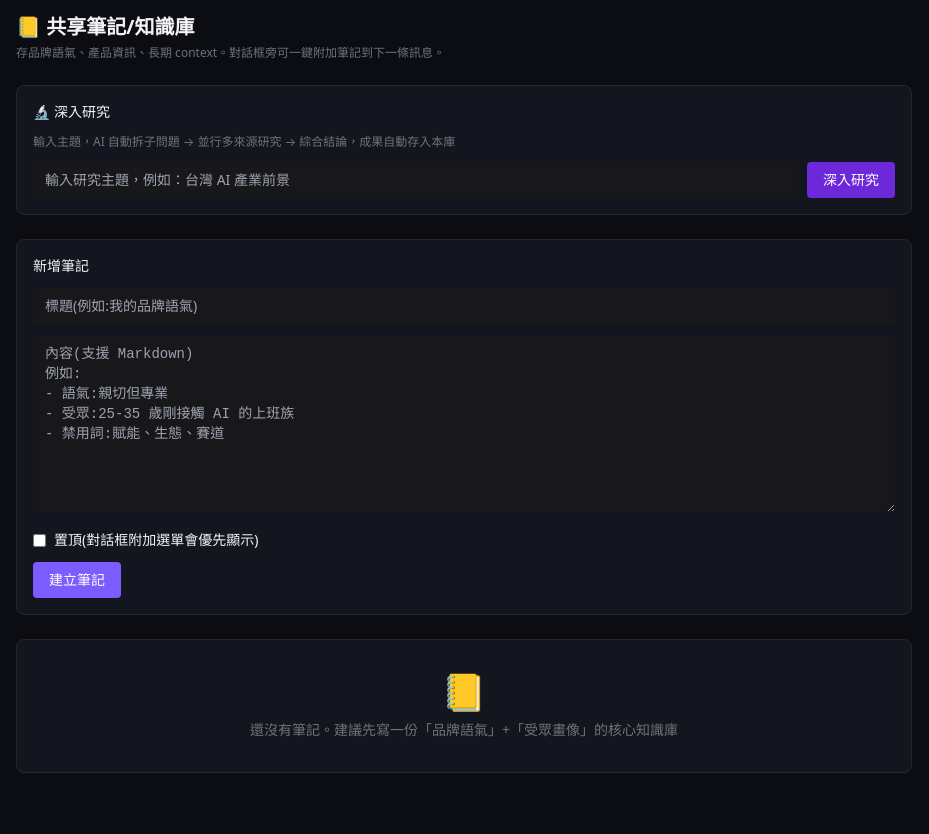
Test: NotesPanel — 🔬 深入研究區塊 › status=done 後刷新 notes 清單並顯示完成提示
Type "台灣 AI" into the field with placeholder "輸入研究主題，例如：台灣 AI 產業前景" at [416, 180], box [33, 162, 799, 198]
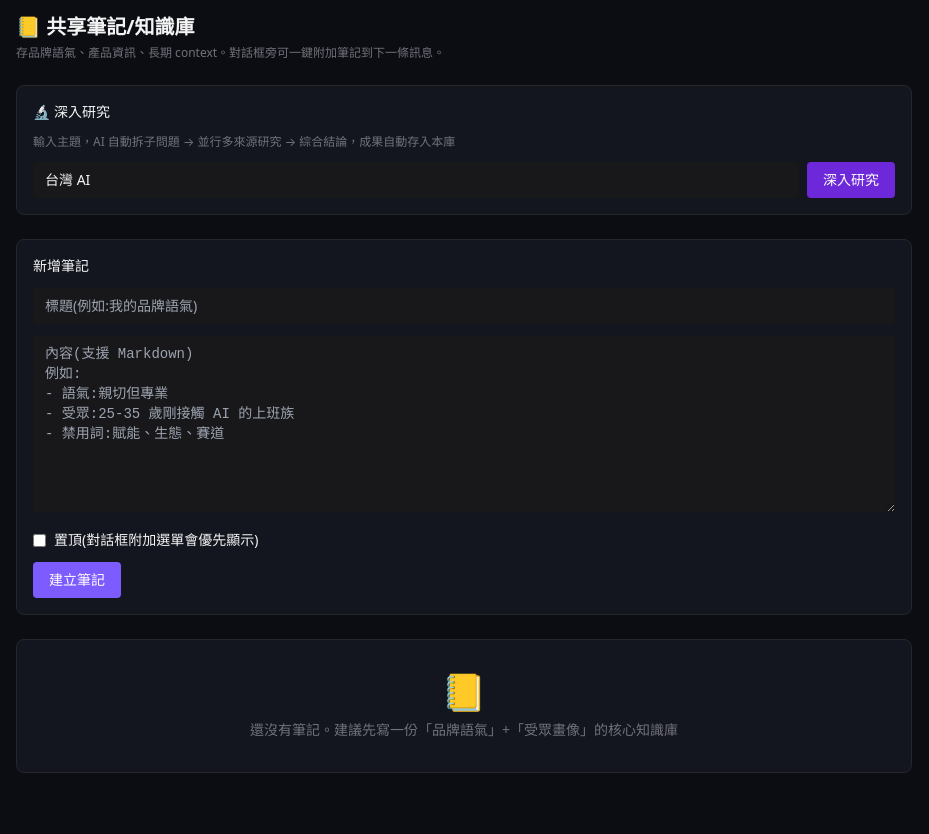
Click the button "深入研究" at [851, 180], box [807, 162, 895, 198]
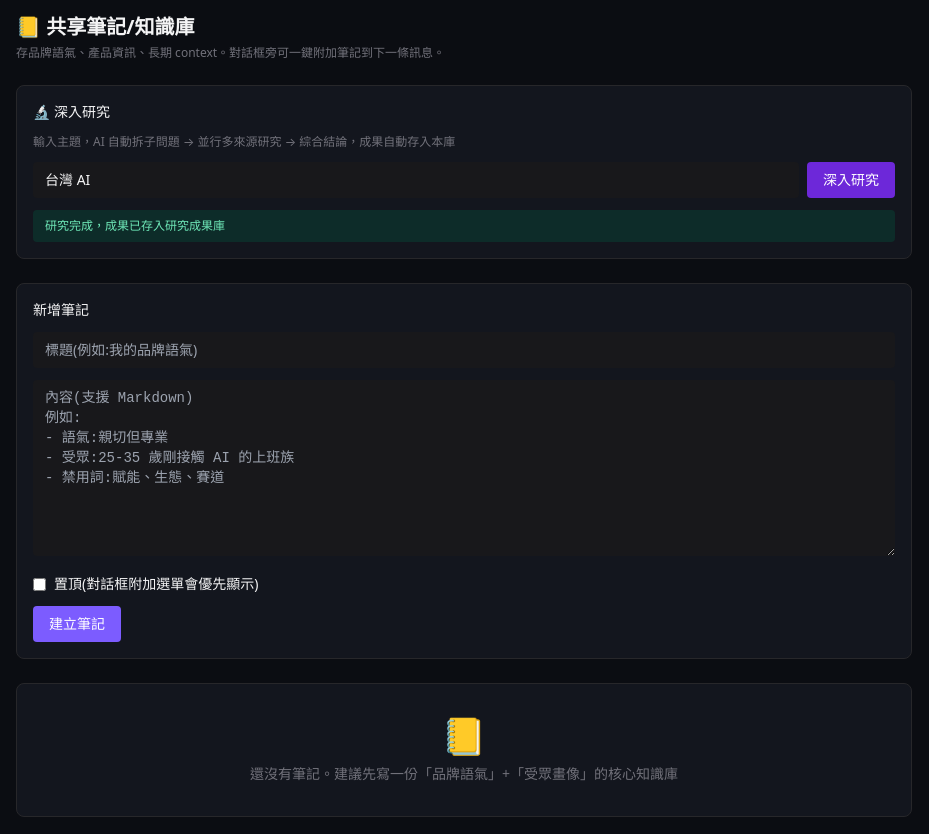
expect the text "研究完成，成果已存入研究成果庫" is shown: met, box [33, 210, 895, 242]
